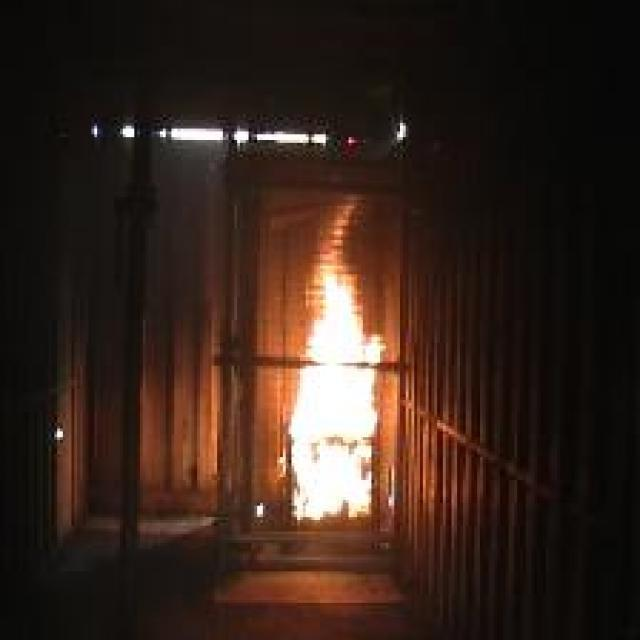Fire: (278, 194, 386, 520)
